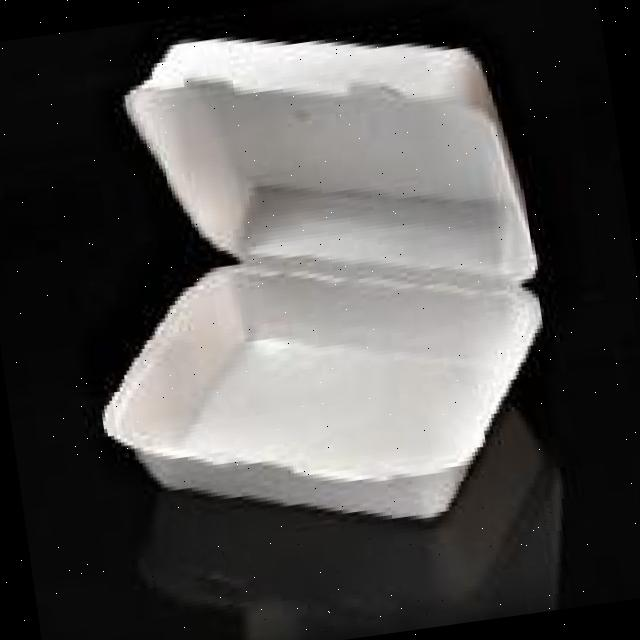styrofoam: (48, 0, 573, 565)
